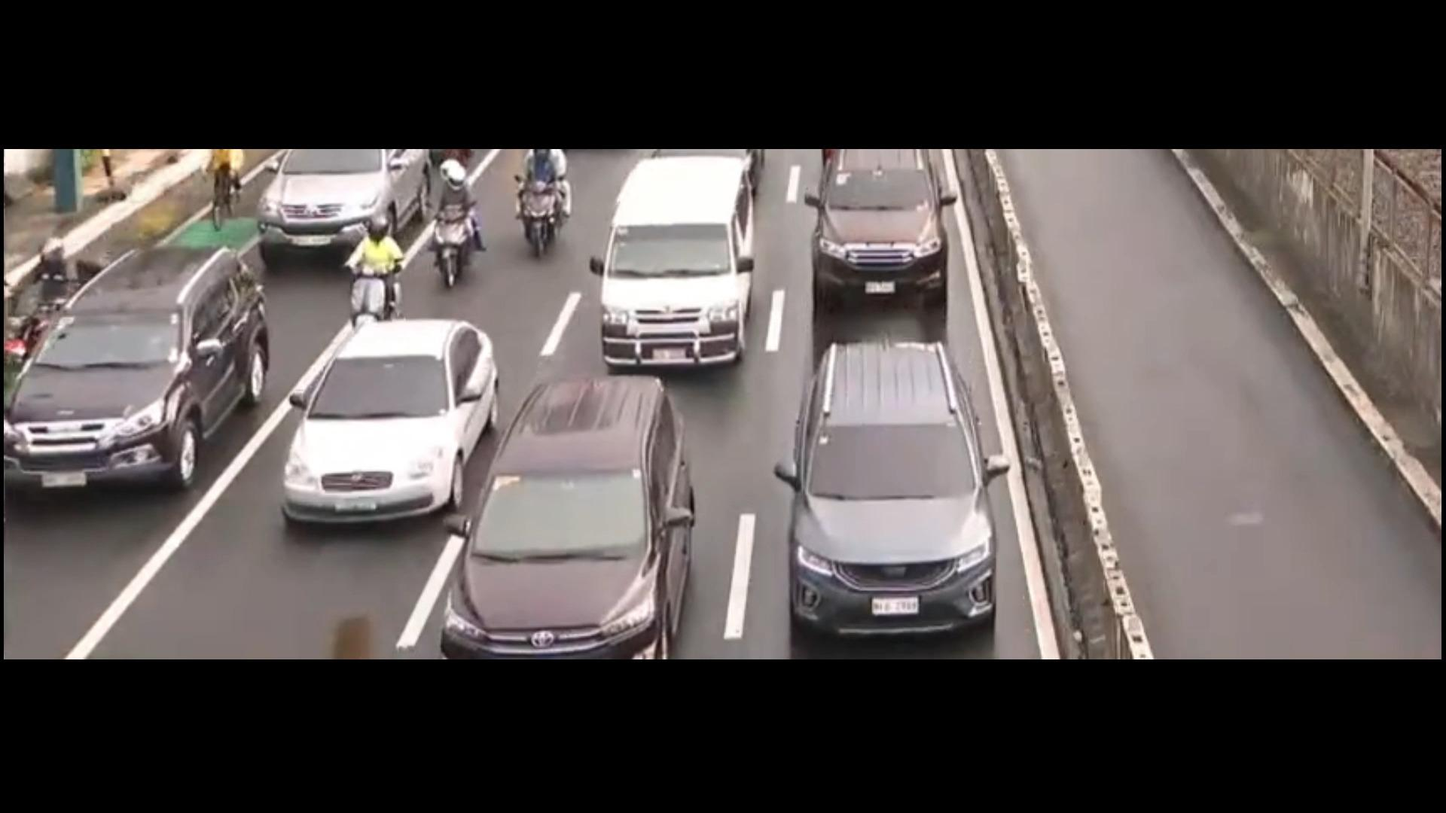Bicycle: (194, 134, 258, 226)
Motorcycle: (0, 224, 83, 377), (407, 153, 497, 282), (323, 206, 416, 326), (505, 145, 571, 278)
SUV: (433, 362, 723, 657), (772, 324, 1011, 648), (0, 238, 275, 511), (801, 143, 962, 309), (253, 147, 436, 264)
Sedan: (265, 311, 513, 544)
Van: (573, 162, 774, 369)
